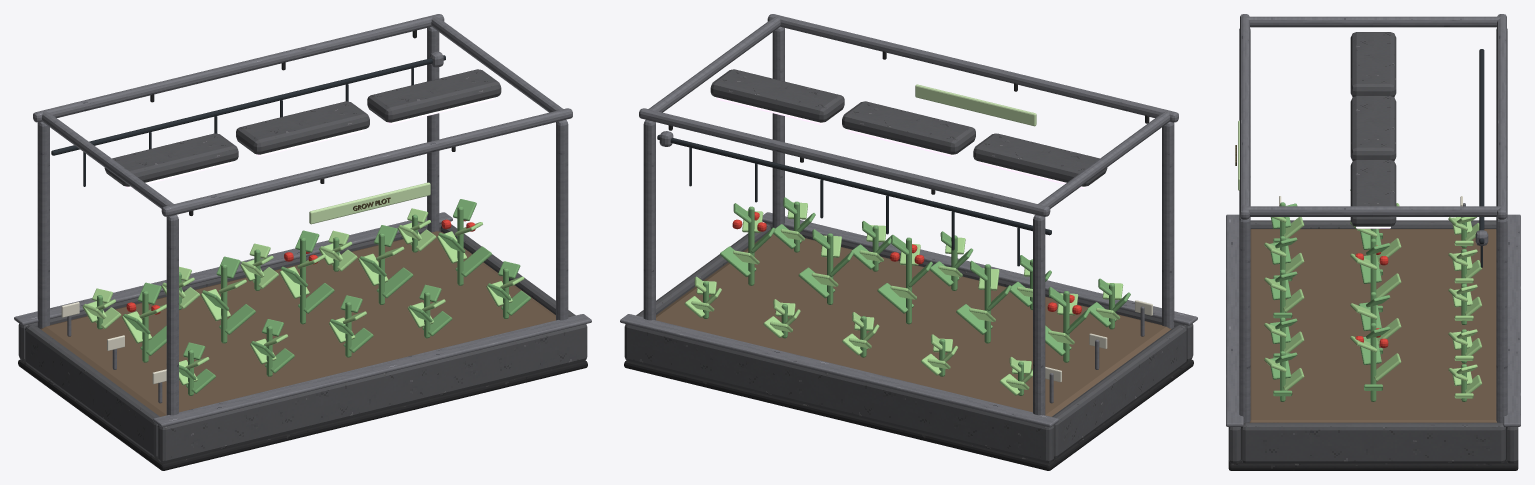
Rendered from decor_bot_grow_plot.glb.
3 views of the same model, side by side, from view 1: azimuth 30°, elevation 25°; view 2: azimuth 150°, elevation 25°; view 3: azimuth 270°, elevation 25° (orthographic).
Parts seen in each view (by area): view 1: DEC_BotGrowPlot__Bed_Soil, DEC_BotGrowPlot__Kerb_Front, DEC_BotGrowPlot__Kerb_Left, DEC_BotGrowPlot__Kerb_Cap_Front, DEC_BotGrowPlot__Beam_Front, DEC_BotGrowPlot__Deck, DEC_BotGrowPlot__Beam_Back, DEC_BotGrowPlot__Lamp_Housing_3, DEC_BotGrowPlot__Lamp_Housing_2, DEC_BotGrowPlot__Lamp_Housing_1, DEC_BotGrowPlot__Post_-178_102, DEC_BotGrowPlot__Post_-178_-102 (+9 smaller); view 2: DEC_BotGrowPlot__Bed_Soil, DEC_BotGrowPlot__Kerb_Back, DEC_BotGrowPlot__Kerb_Left, DEC_BotGrowPlot__Kerb_Cap_Back, DEC_BotGrowPlot__Beam_Back, DEC_BotGrowPlot__Deck, DEC_BotGrowPlot__Beam_Front, DEC_BotGrowPlot__Lamp_Housing_3, DEC_BotGrowPlot__Lamp_Housing_2, DEC_BotGrowPlot__Lamp_Housing_1, DEC_BotGrowPlot__Kerb_Cap_Front, DEC_BotGrowPlot__Post_-178_-102 (+9 smaller); view 3: DEC_BotGrowPlot__Bed_Soil, DEC_BotGrowPlot__Kerb_Right, DEC_BotGrowPlot__Kerb_Cap_Back, DEC_BotGrowPlot__Kerb_Cap_Front, DEC_BotGrowPlot__Beam_Left, DEC_BotGrowPlot__Lamp_Housing_1, DEC_BotGrowPlot__Lamp_Housing_2, DEC_BotGrowPlot__Beam_Right, DEC_BotGrowPlot__Lamp_Housing_3, DEC_BotGrowPlot__Post_178_102, DEC_BotGrowPlot__Post_178_-102, DEC_BotGrowPlot__Deck (+9 smaller).
Part boxes in pixels (left/top/right/bottom): DEC_BotGrowPlot__Bed_Soil: left=41, top=231, right=555, bottom=416; DEC_BotGrowPlot__Kerb_Front: left=157, top=324, right=587, bottom=462; DEC_BotGrowPlot__Kerb_Left: left=25, top=325, right=159, bottom=458; DEC_BotGrowPlot__Kerb_Cap_Front: left=153, top=314, right=591, bottom=427; DEC_BotGrowPlot__Beam_Front: left=161, top=108, right=572, bottom=216; DEC_BotGrowPlot__Deck: left=18, top=359, right=587, bottom=470; DEC_BotGrowPlot__Beam_Back: left=33, top=14, right=444, bottom=122; DEC_BotGrowPlot__Lamp_Housing_3: left=367, top=69, right=501, bottom=122; DEC_BotGrowPlot__Lamp_Housing_2: left=236, top=101, right=369, bottom=154; DEC_BotGrowPlot__Lamp_Housing_1: left=104, top=133, right=238, bottom=186; DEC_BotGrowPlot__Post_-178_102: left=37, top=122, right=49, bottom=328; DEC_BotGrowPlot__Post_-178_-102: left=166, top=215, right=178, bottom=415; DEC_BotGrowPlot__Bed_Soil: left=656, top=234, right=1170, bottom=416; DEC_BotGrowPlot__Kerb_Back: left=624, top=324, right=1054, bottom=462; DEC_BotGrowPlot__Kerb_Left: left=1052, top=325, right=1186, bottom=458; DEC_BotGrowPlot__Kerb_Cap_Back: left=620, top=314, right=1058, bottom=427; DEC_BotGrowPlot__Beam_Back: left=639, top=108, right=1050, bottom=216; DEC_BotGrowPlot__Deck: left=624, top=359, right=1193, bottom=470; DEC_BotGrowPlot__Beam_Front: left=767, top=14, right=1178, bottom=122; DEC_BotGrowPlot__Lamp_Housing_3: left=710, top=69, right=844, bottom=122; DEC_BotGrowPlot__Lamp_Housing_2: left=842, top=101, right=975, bottom=154; DEC_BotGrowPlot__Lamp_Housing_1: left=973, top=133, right=1107, bottom=186; DEC_BotGrowPlot__Kerb_Cap_Front: left=762, top=212, right=1197, bottom=325; DEC_BotGrowPlot__Post_-178_-102: left=1162, top=122, right=1174, bottom=328; DEC_BotGrowPlot__Bed_Soil: left=1250, top=229, right=1496, bottom=422; DEC_BotGrowPlot__Kerb_Right: left=1241, top=422, right=1505, bottom=463; DEC_BotGrowPlot__Kerb_Cap_Back: left=1503, top=214, right=1520, bottom=426; DEC_BotGrowPlot__Kerb_Cap_Front: left=1226, top=214, right=1243, bottom=426; DEC_BotGrowPlot__Beam_Left: left=1240, top=16, right=1506, bottom=27; DEC_BotGrowPlot__Lamp_Housing_1: left=1350, top=32, right=1396, bottom=97; DEC_BotGrowPlot__Lamp_Housing_2: left=1350, top=96, right=1396, bottom=160; DEC_BotGrowPlot__Beam_Right: left=1240, top=206, right=1505, bottom=216; DEC_BotGrowPlot__Lamp_Housing_3: left=1350, top=160, right=1396, bottom=226; DEC_BotGrowPlot__Post_178_102: left=1496, top=217, right=1507, bottom=422; DEC_BotGrowPlot__Post_178_-102: left=1239, top=217, right=1250, bottom=422; DEC_BotGrowPlot__Deck: left=1228, top=459, right=1518, bottom=470.
Size of what is drawn, in the model's own units: 3.94 by 2.24 by 2.34.
12 materials, 3 textured.
